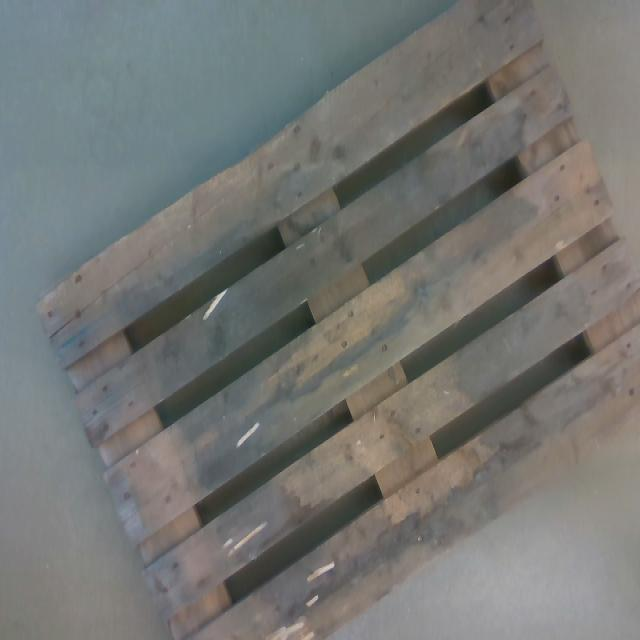pallet: (34, 0, 640, 640)
